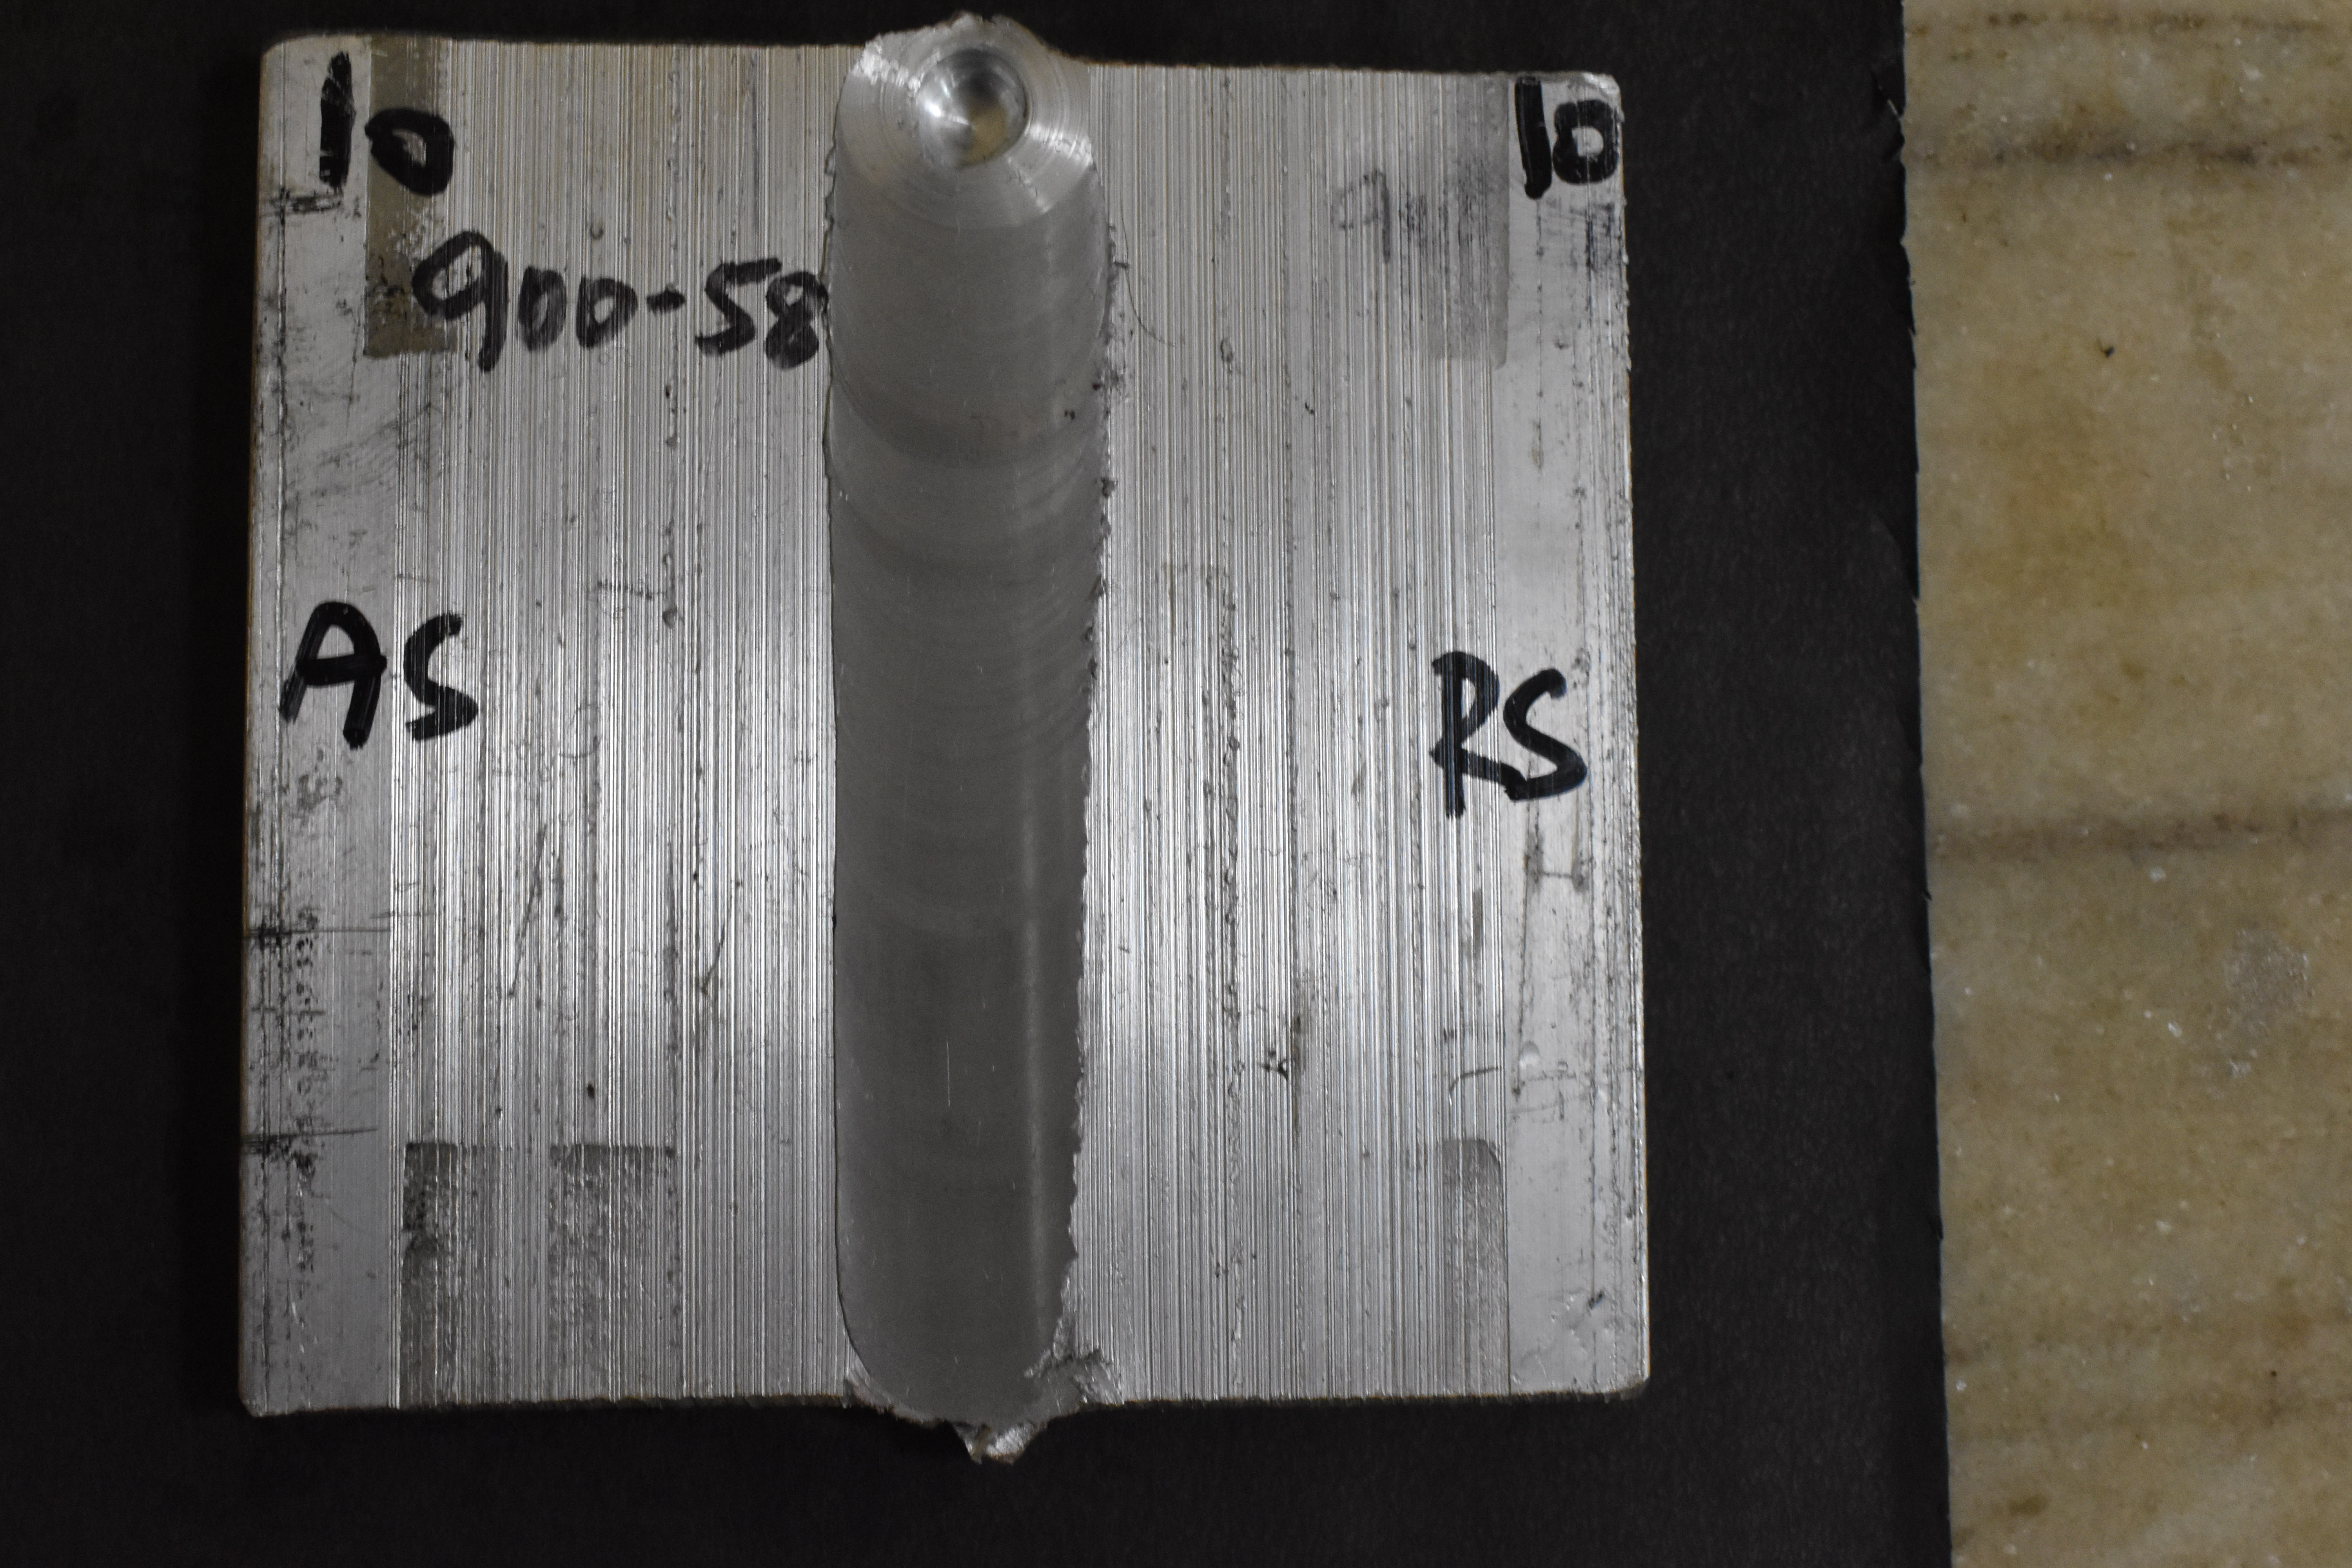flash: (959, 1349, 1109, 1471)
grooves: (864, 263, 1063, 768)
keyhole: (918, 51, 1031, 161)
